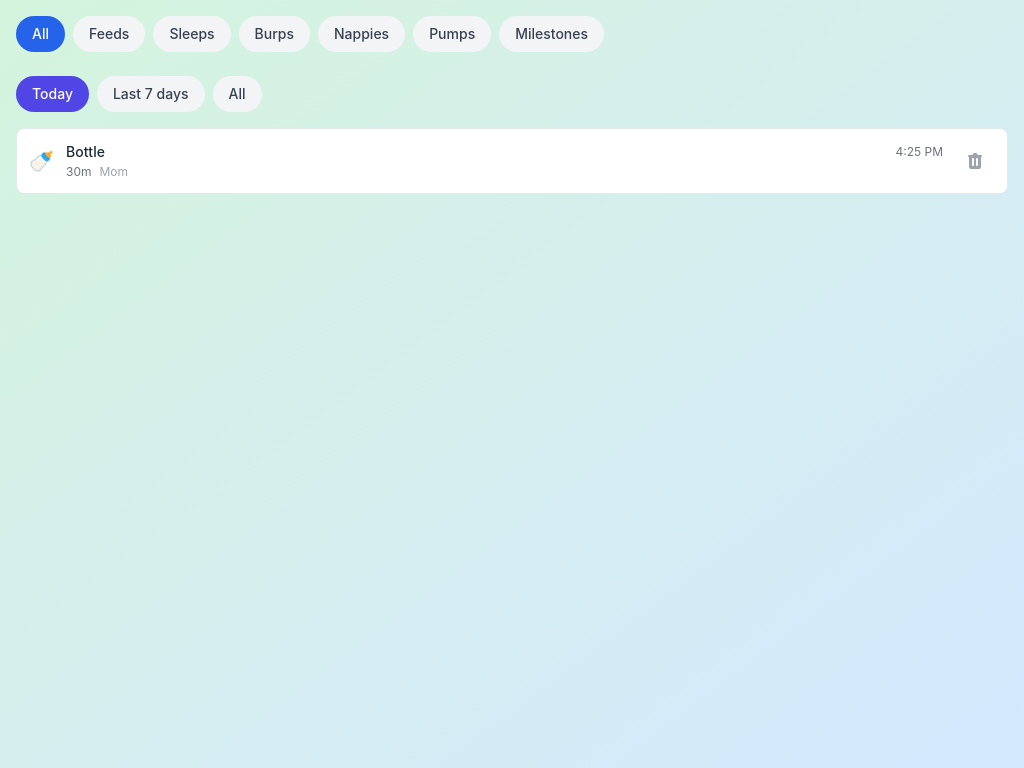
History — date filter › shows all events when date filter 'All' is clicked
Expected: the text "Bottle" is shown, [66, 142, 105, 162]
Note: Click the second "All" button (date filter)
Click the 2nd button "All": (237, 94) [213, 76, 262, 112]
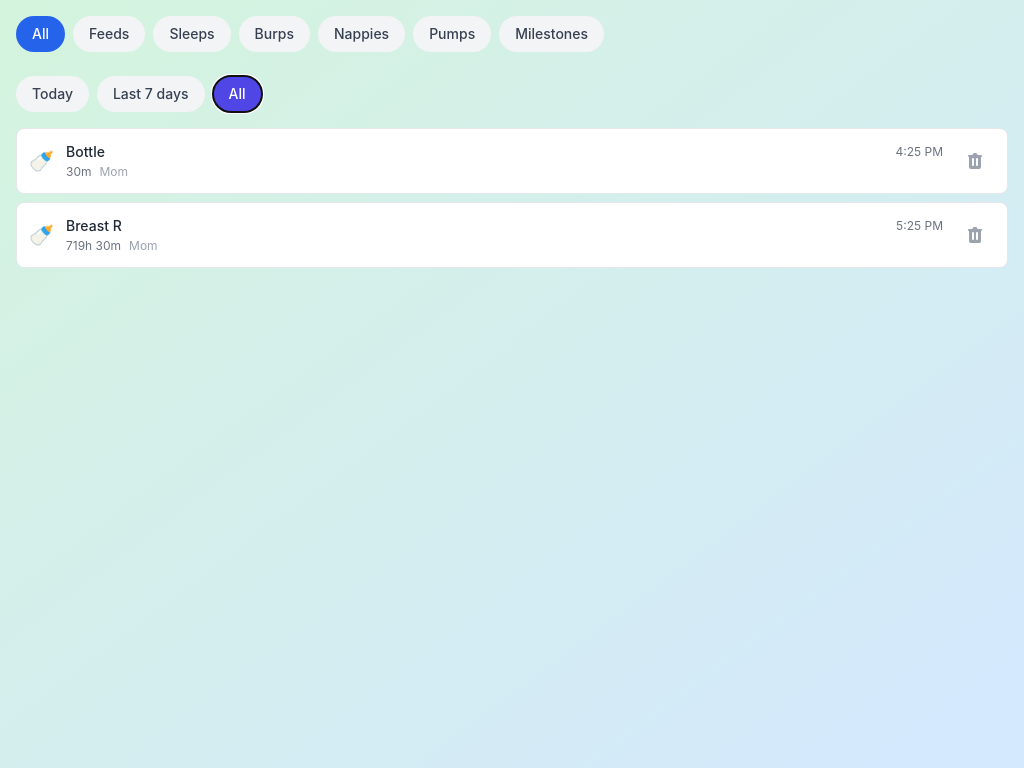
Expected: the text "Bottle" is shown, [66, 142, 105, 162]
Expected: the text "Breast R" is shown, [66, 216, 122, 236]
